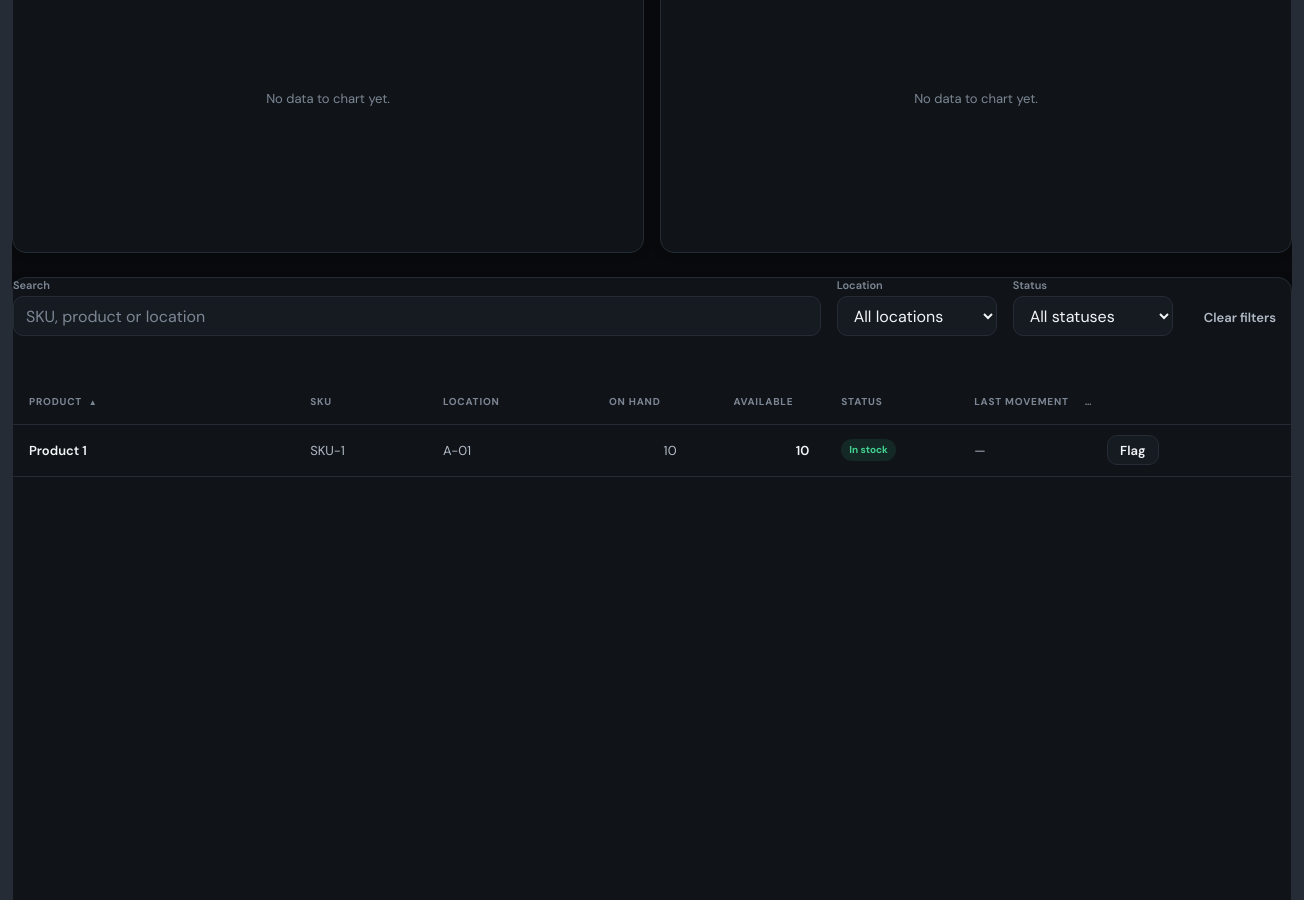
Scenario: InventoryOverviewPage › flags a row immediately and keeps it flagged once the server confirms
The image size is (1304, 900).
(page scrolled)
Check: the text "Product 1" is shown, box [29,442,87,459]
Click the button with aria-label "Flag SKU-1 at A-01 for cycle count" at point(1133, 450), box [1107,435,1158,465]
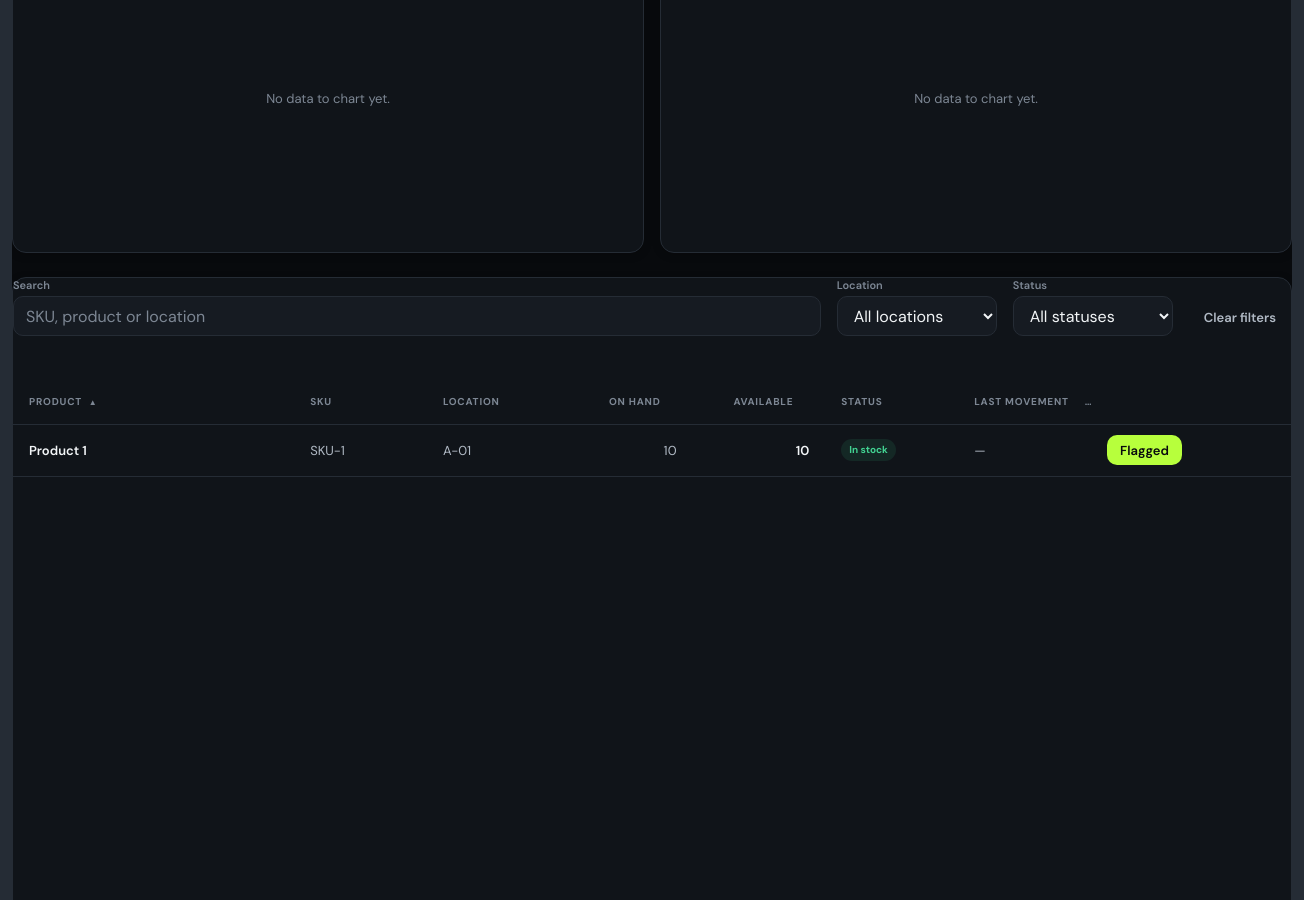
Check: the button with aria-label "flagged: sku-1" is shown, box [1107,435,1182,465]
